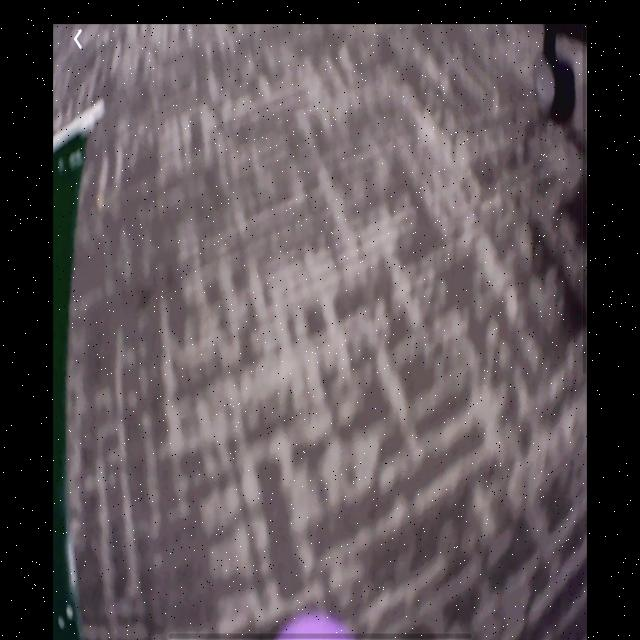ball: (281, 612, 354, 640)
